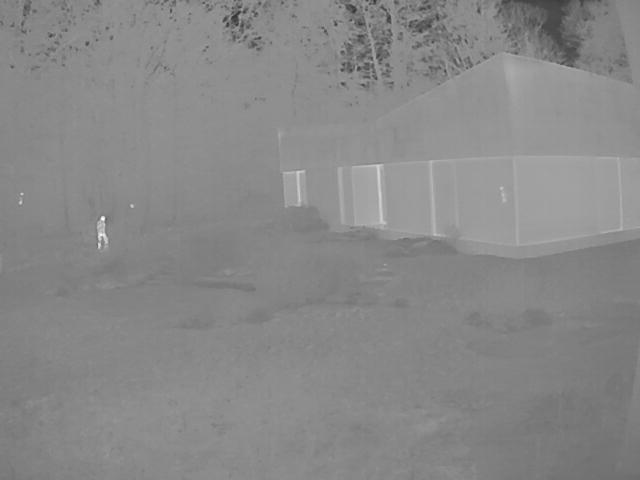person: (97, 214, 109, 249)
